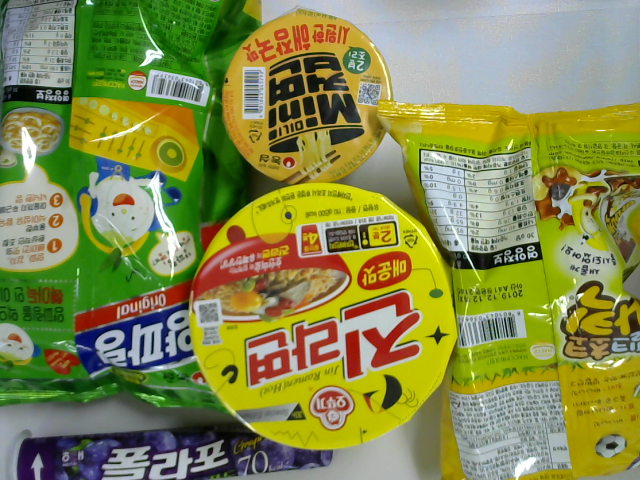Banana_Kick: (379, 99, 640, 480)
Hejangmini: (221, 8, 397, 186)
Jinlamyeon_Hot_Taste_Large_Cup: (188, 178, 458, 453)
Oninon_Ring: (1, 1, 275, 420)
Polapo_Grape: (7, 426, 333, 480)
